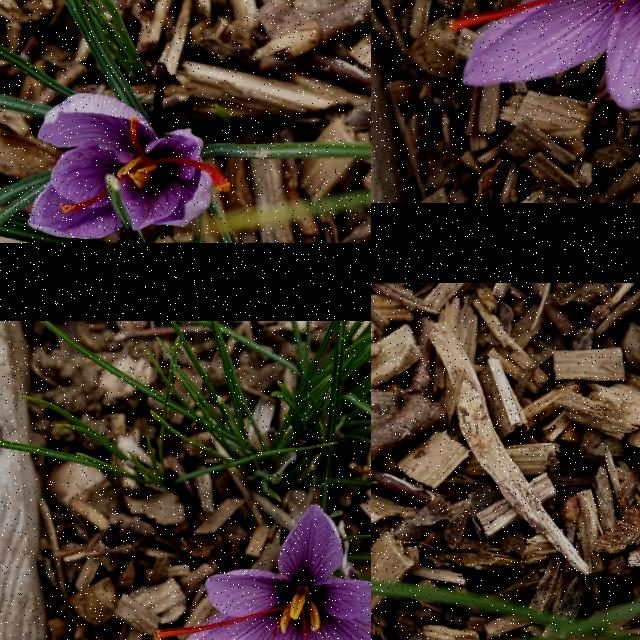flower: (29, 93, 231, 239), (156, 505, 371, 640), (447, 0, 640, 111)
